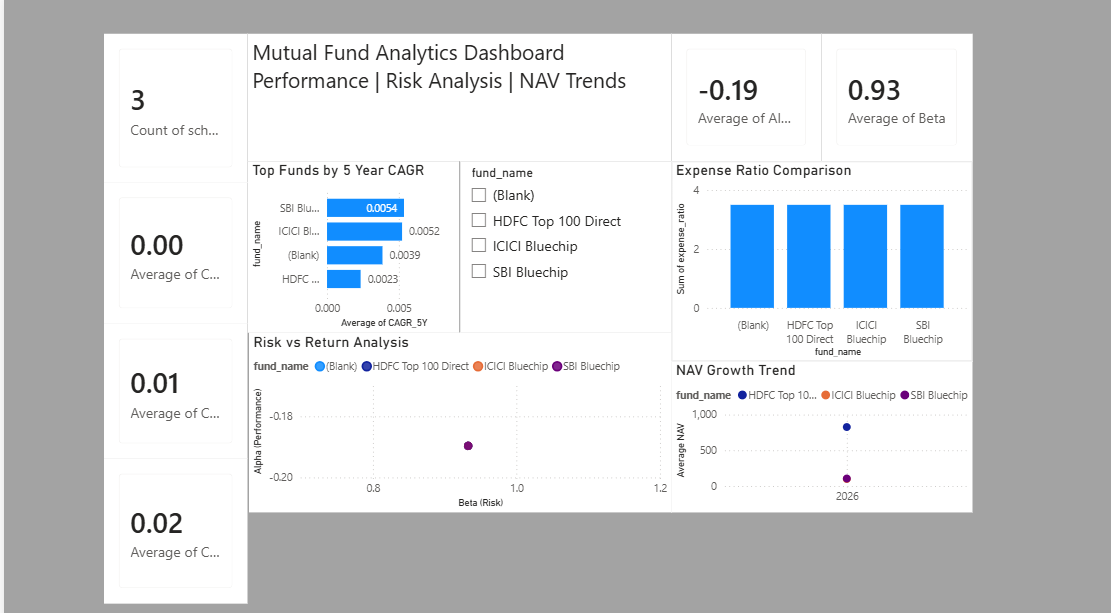

The page's visual inventory and layout, read from the dashboard file:
{"tool":"powerbi","page":{"name":"Industry Overview","canvas":[1280,720],"ordinal":0},"visuals":[{"type":"cardVisual","fields":{"Data":["CountNonNull(fund_master.scheme_code)"]},"box":[114.3,44.3,164.3,170],"z":0},{"type":"cardVisual","fields":{"Data":["Avg(fund_scorecard.CAGR_5Y)"]},"box":[114.3,214.3,164.3,161.4],"z":1000},{"type":"cardVisual","fields":{"Data":["Avg(fund_scorecard.CAGR_3Y)"]},"box":[114.3,375.7,164.3,154.3],"z":2000},{"type":"cardVisual","fields":{"Data":["Avg(fund_scorecard.CAGR_1Y)"]},"box":[114.3,530,164.3,165.7],"z":3000},{"type":"clusteredBarChart","title":"Top Funds by 5 Year CAGR","fields":{"Y":["Avg(fund_scorecard.CAGR_5Y)"],"Category":["fund_master.fund_name"]},"box":[278.6,190,241.4,195.7],"z":4000},{"type":"scatterChart","title":"Risk vs Return Analysis","fields":{"X":["Avg(alpha_beta.Beta)"],"Y":["Avg(alpha_beta.Alpha)"],"Series":["fund_master.fund_name"]},"box":[280,385.7,482.9,205.7],"z":5000},{"type":"slicer","fields":{"Values":["fund_master.fund_name"]},"box":[521.4,190,241.4,195.7],"z":6000},{"type":"clusteredColumnChart","title":"Expense Ratio Comparison","fields":{"Category":["fund_master.fund_name"],"Y":["Sum(clean_performance.expense_ratio)"]},"box":[762.9,190,344.3,228.6],"z":7000},{"type":"lineChart","title":"NAV Growth Trend","fields":{"Category":["nav_history.date.Variation.Date Hierarchy.Year","nav_history.date.Variation.Date Hierarchy.Quarter","nav_history.date.Variation.Date Hierarchy.Month","nav_history.date.Variation.Date Hierarchy.Day"],"Y":["Avg(nav_history.nav)"],"Series":["fund_master.fund_name"]},"box":[762.9,418.6,344.3,172.9],"z":8000},{"type":"textbox","box":[278.6,44.3,484.3,145.7],"z":9000},{"type":"cardVisual","fields":{"Data":["Avg(alpha_beta.Alpha)"]},"box":[762.9,44.3,171.4,145.7],"z":10000},{"type":"cardVisual","fields":{"Data":["Avg(alpha_beta.Beta)"]},"box":[934.3,44.3,172.9,145.7],"z":11000}]}

Visuals, with their boxes in screenshot pixels (x1, y1, x2, y2), scaled from the page's 1280x720 canvas onto the 1111x613 screenshot:
cardVisual - CountNonNull(fund_master.scheme_code): detection(99, 38, 242, 182)
cardVisual - Avg(fund_scorecard.CAGR_5Y): detection(99, 182, 242, 320)
cardVisual - Avg(fund_scorecard.CAGR_3Y): detection(99, 320, 242, 451)
cardVisual - Avg(fund_scorecard.CAGR_1Y): detection(99, 451, 242, 592)
"Top Funds by 5 Year CAGR" clusteredBarChart: detection(242, 162, 451, 328)
"Risk vs Return Analysis" scatterChart: detection(243, 328, 662, 504)
slicer - fund_master.fund_name: detection(453, 162, 662, 328)
"Expense Ratio Comparison" clusteredColumnChart: detection(662, 162, 961, 356)
"NAV Growth Trend" lineChart: detection(662, 356, 961, 504)
textbox: detection(242, 38, 662, 162)
cardVisual - Avg(alpha_beta.Alpha): detection(662, 38, 811, 162)
cardVisual - Avg(alpha_beta.Beta): detection(811, 38, 961, 162)
